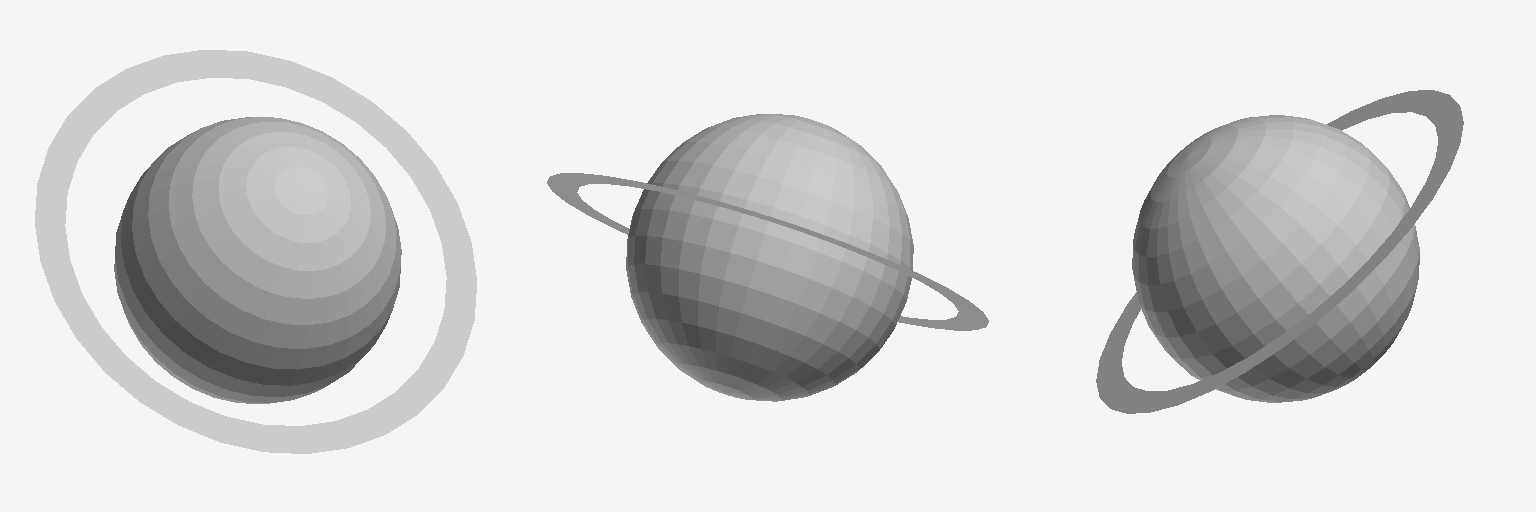
Rendered from saturn.obj.
3 renders of one model, left to right at view 1: azimuth 30°, elevation 25°; view 2: azimuth 150°, elevation 25°; view 3: azimuth 270°, elevation 25°, orthographic.
Visible parts, largest first — view 1: Sphere, Circle; view 2: Sphere, Circle; view 3: Sphere, Circle.
Boxes of the visible parts, x1=… form: Sphere: x1=114, y1=117, x2=401, y2=403; Circle: x1=35, y1=50, x2=476, y2=453; Sphere: x1=626, y1=114, x2=913, y2=401; Circle: x1=547, y1=173, x2=988, y2=330; Sphere: x1=1132, y1=115, x2=1419, y2=402; Circle: x1=1096, y1=90, x2=1463, y2=413.
Bounding box in the file's own units: 3.23 × 2.04 × 2.55.